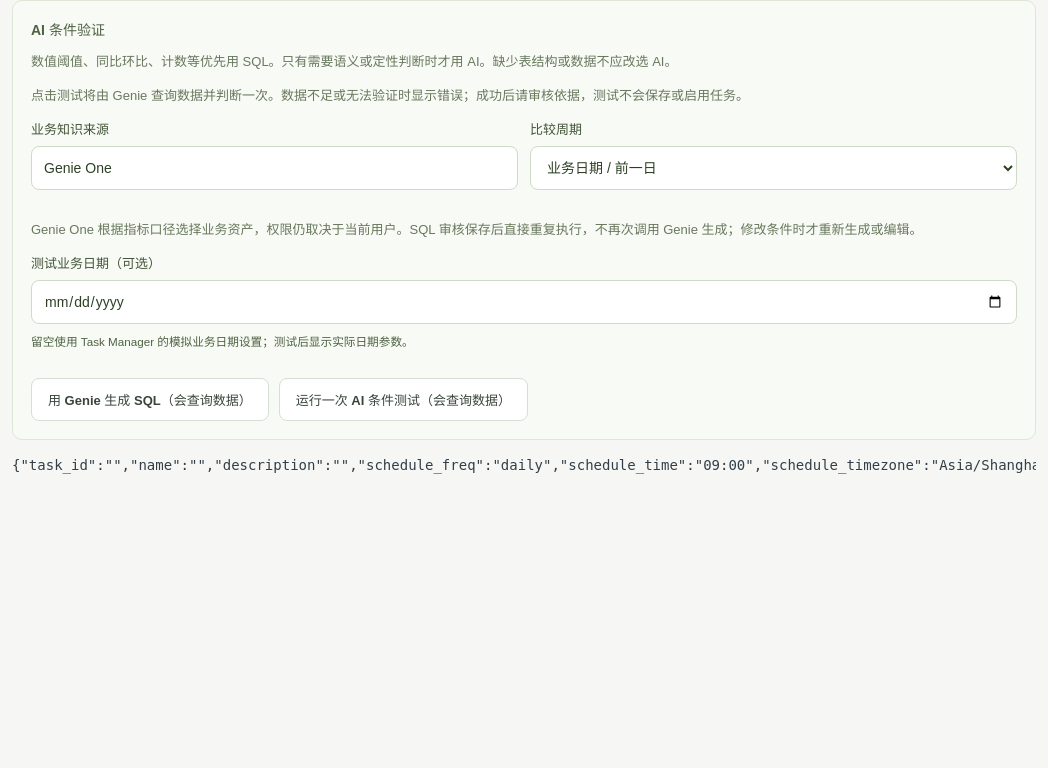
it: requires separate explicit generation and testing and keeps SQL review in form state
Click the button "用 Genie 生成 SQL（会查询数据）". click: (150, 400)
box: [31,378,269,421]
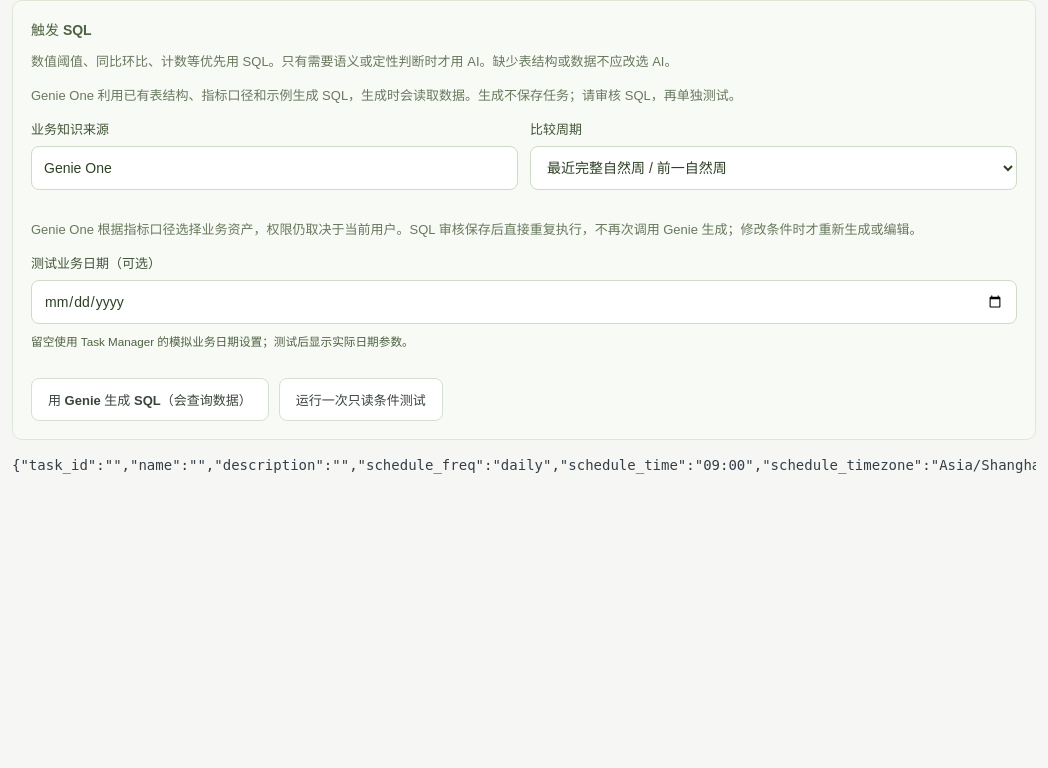
Click the button "运行一次只读条件测试". click: (361, 400)
box: [279,378,443,421]
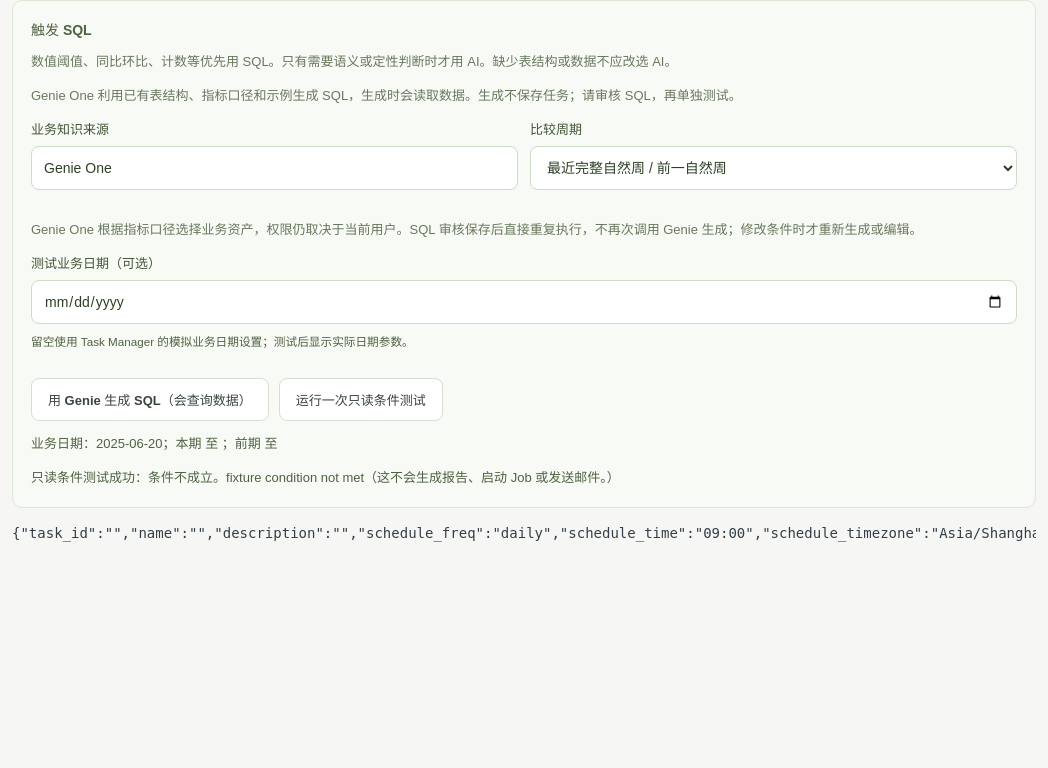
Now the text "只读条件测试成功：条件不成立。fixture condition not met（这不会生成报告、启动 Job 或发送邮件。）" is shown, box [31,470,620,485]
